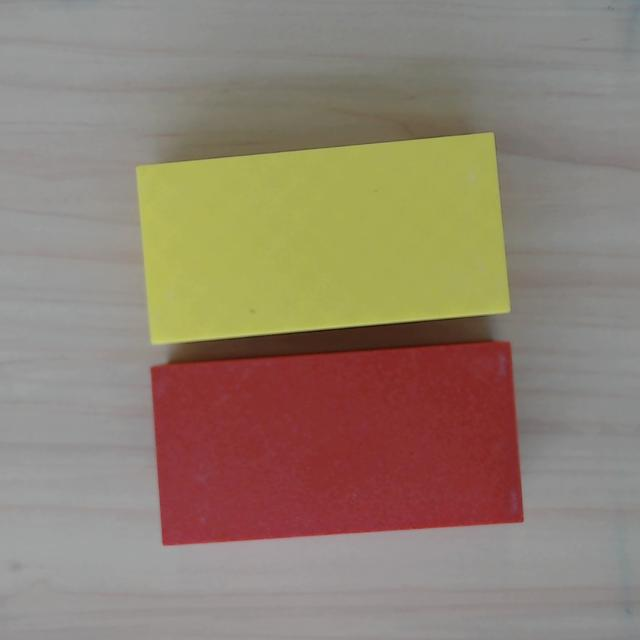Balok-Kuning-1005025: (134, 133, 511, 346)
Balok-Merah-1005025: (150, 341, 523, 545)
